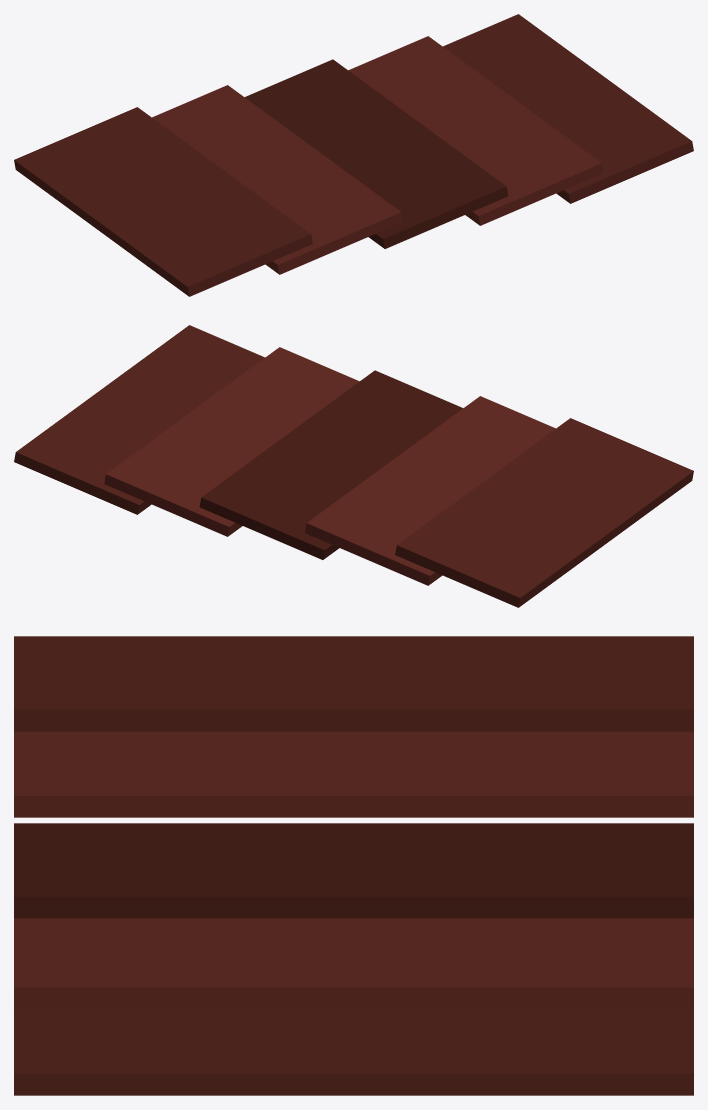
Rendered from A_Roof04.fbx.
The picture shows the model from 3 angles, top to bottom: view 1: azimuth 30°, elevation 25°; view 2: azimuth 150°, elevation 25°; view 3: azimuth 270°, elevation 25°; orthographic projection. The views are drawn at different scales.
Parts seen in each view (by area): view 1: A_Roof04; view 2: A_Roof04; view 3: A_Roof04.
Part boxes in pixels (x1,y1,x2,y2): A_Roof04: (14,14,693,296); A_Roof04: (14,325,693,607); A_Roof04: (14,636,693,1095).
Bounding box in the file's own units: 101 × 6.31 × 60.
